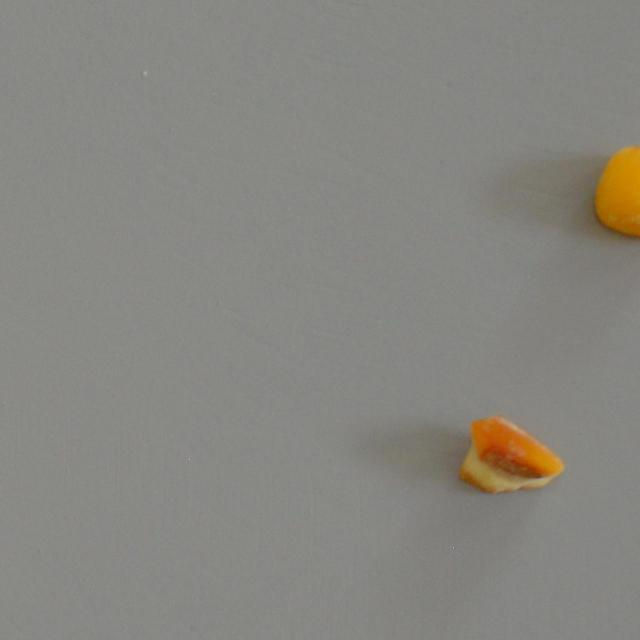dañado: (455, 414, 566, 498)
pelicula: (591, 144, 640, 241)
